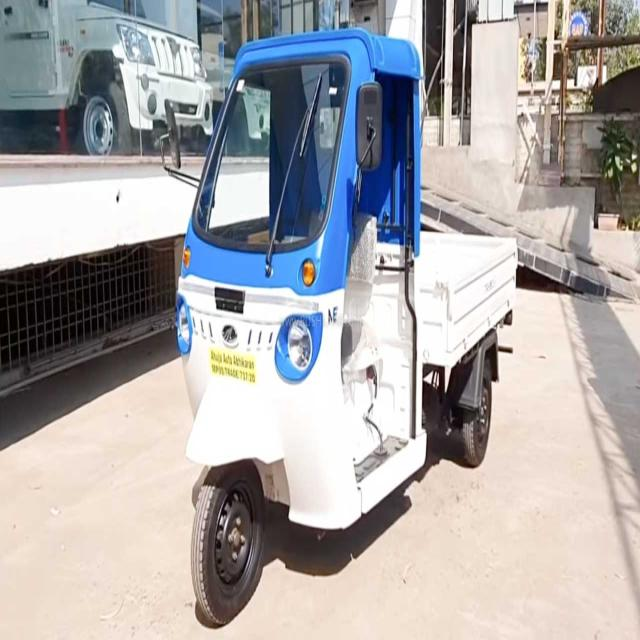autorickshaw: (176, 29, 518, 624)
car: (2, 0, 215, 152)
